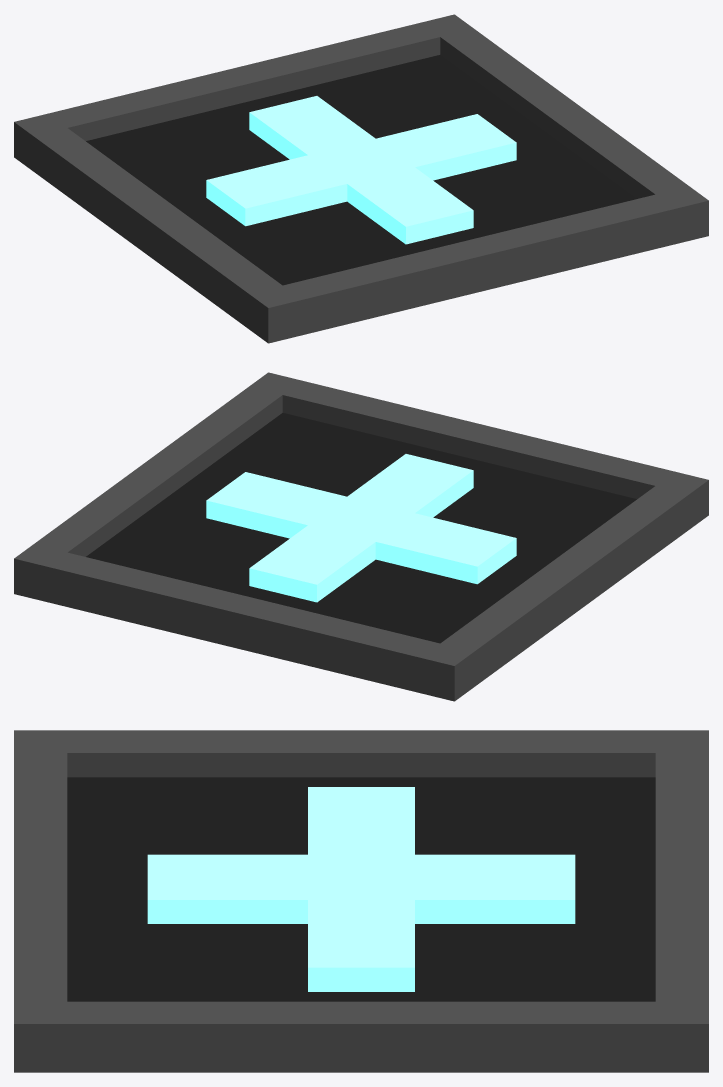
Rendered from trap_CROSSHAIR_TEAL.glb.
3 renders of one model, top to bottom at view 1: azimuth 30°, elevation 25°; view 2: azimuth 150°, elevation 25°; view 3: azimuth 270°, elevation 25°, orthographic. The views are drawn at different scales.
Visible parts, largest first — view 1: item_TRAP_CROSSHAIR_TEAL; view 2: item_TRAP_CROSSHAIR_TEAL; view 3: item_TRAP_CROSSHAIR_TEAL.
Boxes of the visible parts, x1,y1,x2,y2 form: item_TRAP_CROSSHAIR_TEAL: (14,14,708,343); item_TRAP_CROSSHAIR_TEAL: (14,372,708,701); item_TRAP_CROSSHAIR_TEAL: (14,730,708,1072).
Size of the model in its own units: 0.5909 by 0.0455 by 0.5909.
Materials: 1 (1 with a texture image).
